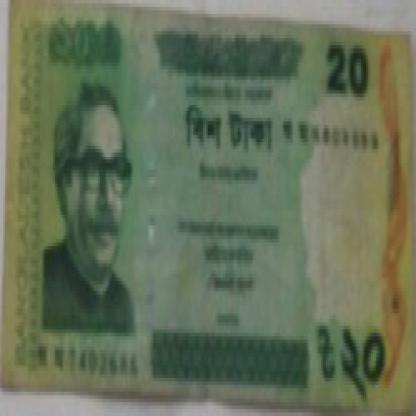Twenty: (316, 309, 391, 402), (180, 94, 278, 163), (326, 38, 375, 115), (48, 10, 107, 73)
